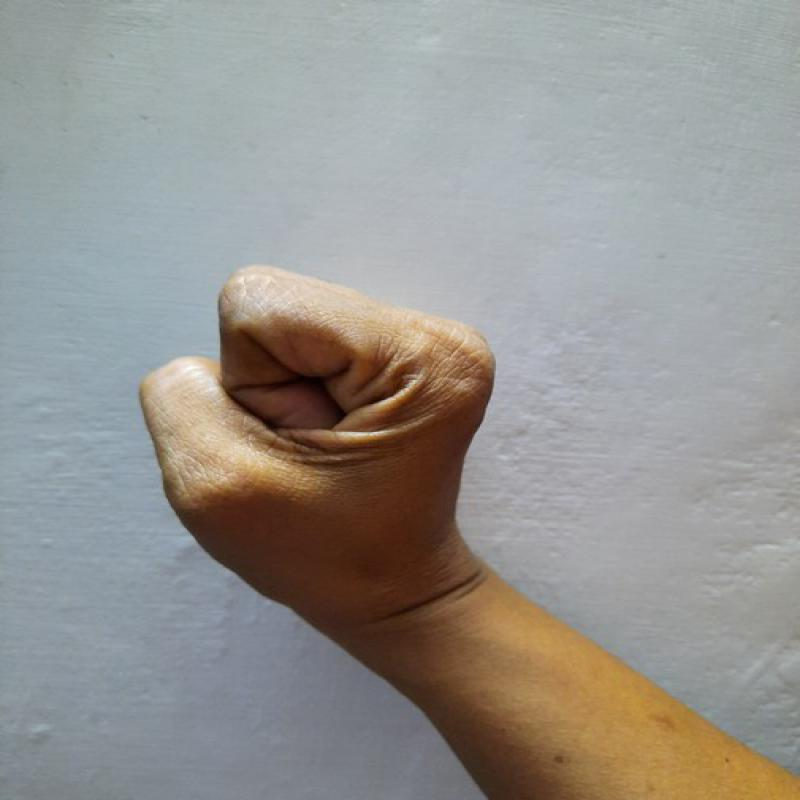Mushti: (123, 245, 530, 645)
